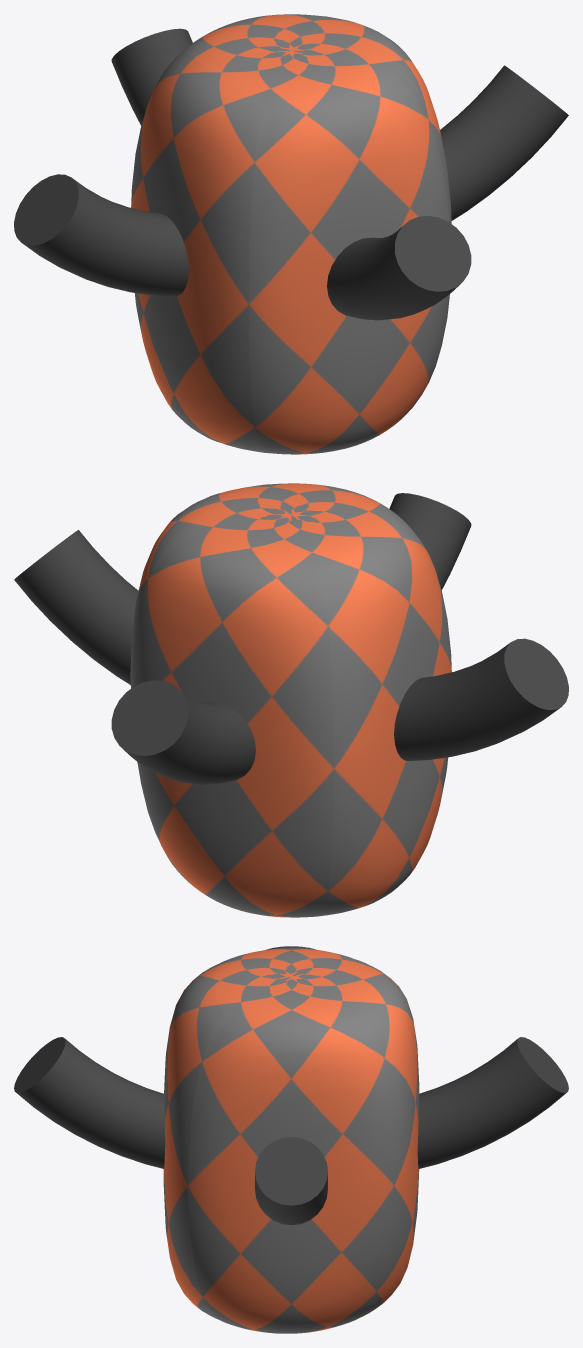
Rendered from Body(Oblong)+Colour(More_Orange)+Arms(Bent_Up)+Pattern(Diamond).fbx.
3 views of the same model, one above another, from view 1: azimuth 30°, elevation 25°; view 2: azimuth 150°, elevation 25°; view 3: azimuth 270°, elevation 25° (orthographic). The views are drawn at different scales.
Visible parts, largest first — view 1: Body(Oblong)+Colour(More_Orange)+Arms(Bent_Up)+Pattern(Diamo (×5); view 2: Body(Oblong)+Colour(More_Orange)+Arms(Bent_Up)+Pattern(Diamo (×5); view 3: Body(Oblong)+Colour(More_Orange)+Arms(Bent_Up)+Pattern(Diamo (×4).
Part boxes in pixels (x1=…): Body(Oblong)+Colour(More_Orange)+Arms(Bent_Up)+Pattern(Diamo (×5): x1=14, y1=14, x2=568, y2=454; Body(Oblong)+Colour(More_Orange)+Arms(Bent_Up)+Pattern(Diamo (×5): x1=14, y1=483, x2=568, y2=917; Body(Oblong)+Colour(More_Orange)+Arms(Bent_Up)+Pattern(Diamo (×4): x1=14, y1=948, x2=568, y2=1333.
Size of the model in its own units: 60.67 by 40 by 60.67.
Materials: 2 (2 with a texture image).
